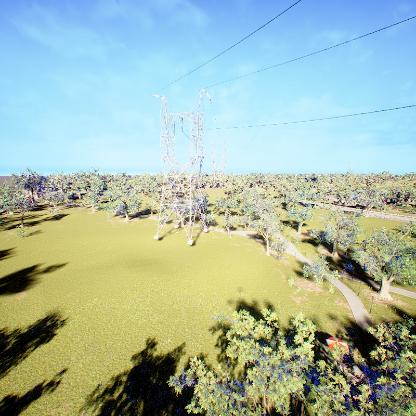tower: (150, 88, 217, 247)
